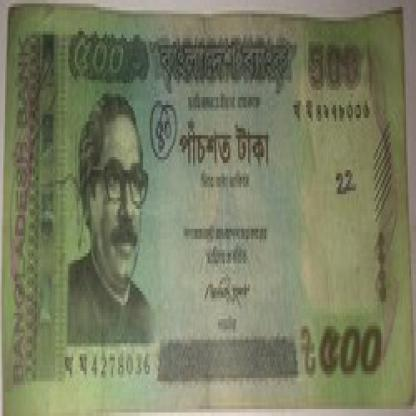500 taka: (161, 118, 283, 184), (311, 319, 396, 385), (68, 24, 138, 76)
currency: (5, 17, 413, 402)
